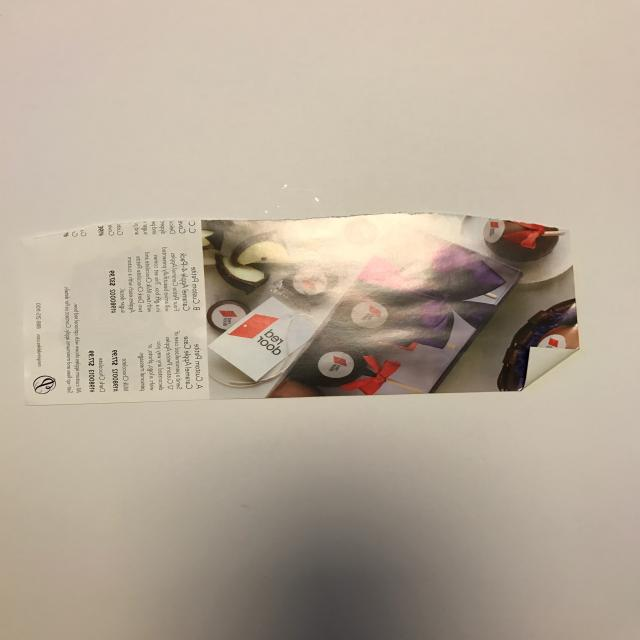paper: (0, 198, 616, 436)
